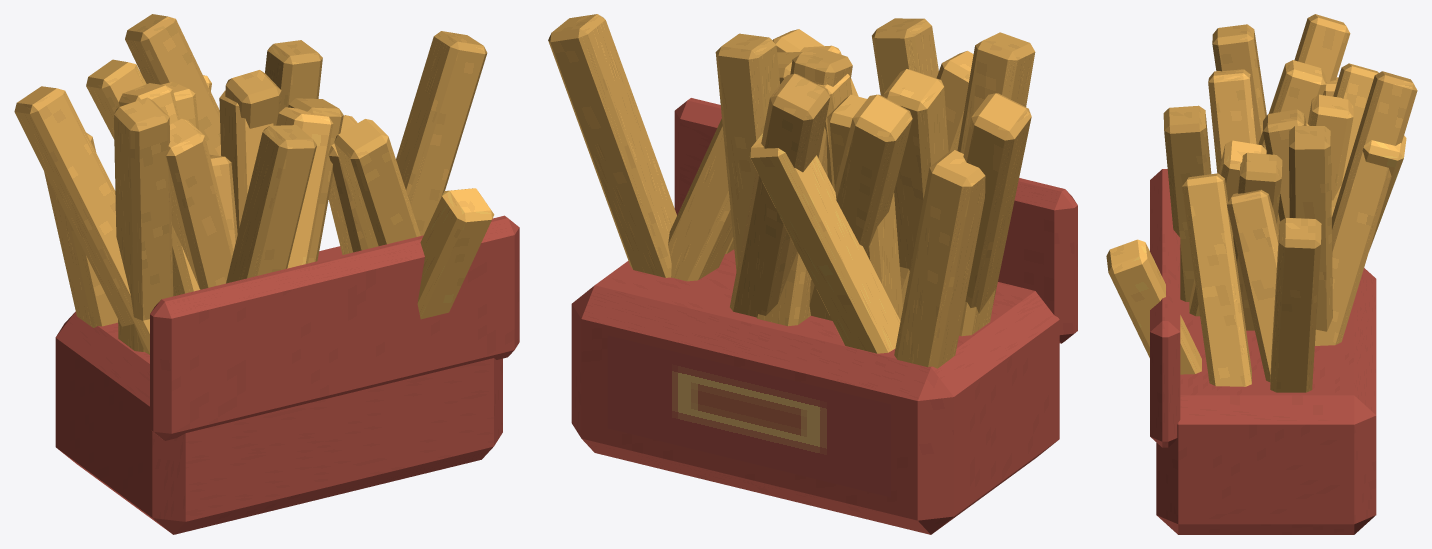
The model's file is fries.glb.
3 renders of one model, left to right at view 1: azimuth 30°, elevation 25°; view 2: azimuth 150°, elevation 25°; view 3: azimuth 270°, elevation 25°, orthographic. The views are drawn at different scales.
Visible parts, largest first — view 1: block_squared potato strip (×19), block_red paper fry scoop, block_high folded back; view 2: block_squared potato strip (×16), block_red paper fry scoop, block_gold accent on fry carton, block_high folded back; view 3: block_squared potato strip (×17), block_red paper fry scoop, block_high folded back.
Boxes of the visible parts, x1,y1,x2,y2 form: block_squared potato strip (×19): (14, 14, 494, 354); block_red paper fry scoop: (55, 246, 502, 534); block_high folded back: (150, 215, 519, 440); block_squared potato strip (×16): (548, 14, 1035, 368); block_red paper fry scoop: (571, 249, 1059, 534); block_gold accent on fry carton: (607, 335, 890, 497); block_high folded back: (674, 98, 1077, 343); block_squared potato strip (×17): (1106, 14, 1417, 392); block_red paper fry scoop: (1156, 268, 1376, 534); block_high folded back: (1150, 169, 1180, 447).
Size of the model in its own units: 0.114 by 0.1007 by 0.0765.
1 material, 1 textured.
